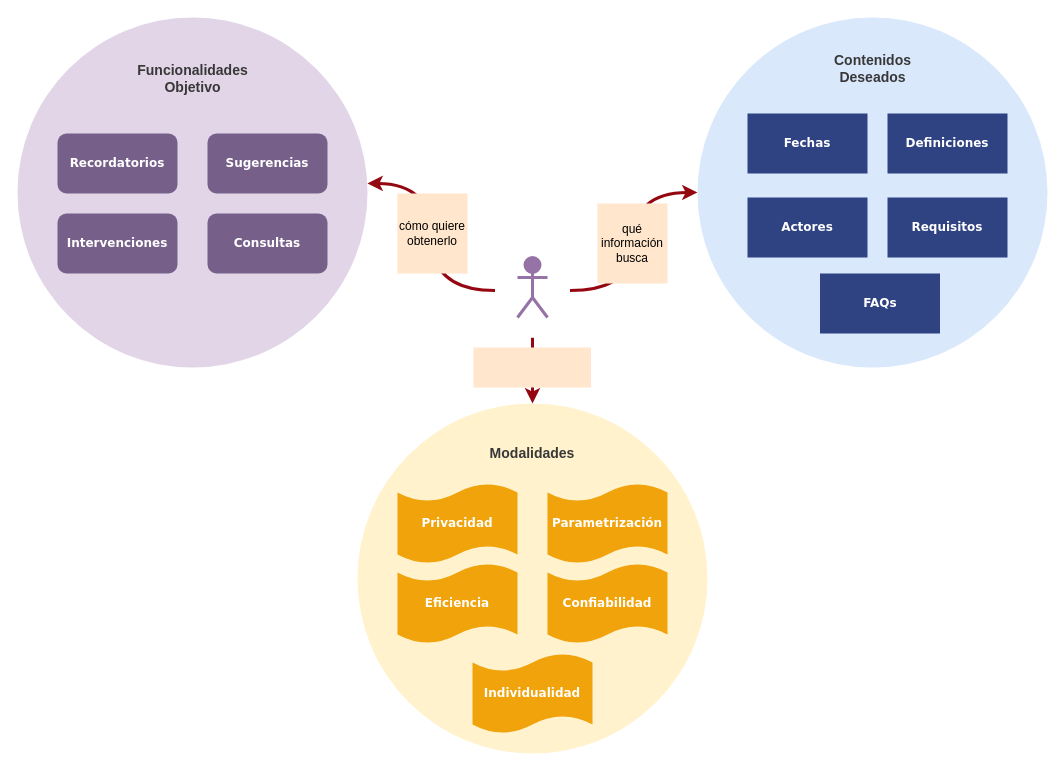
Some shapes in this 1064 by 770 pixel diagram are drawn without their labels. Here are the shapes that lost their labels. From the top down, the box of each, then its label:
(516, 256, 548, 318): Actor
(473, 347, 590, 387): Restricciones o valores a maximizar
